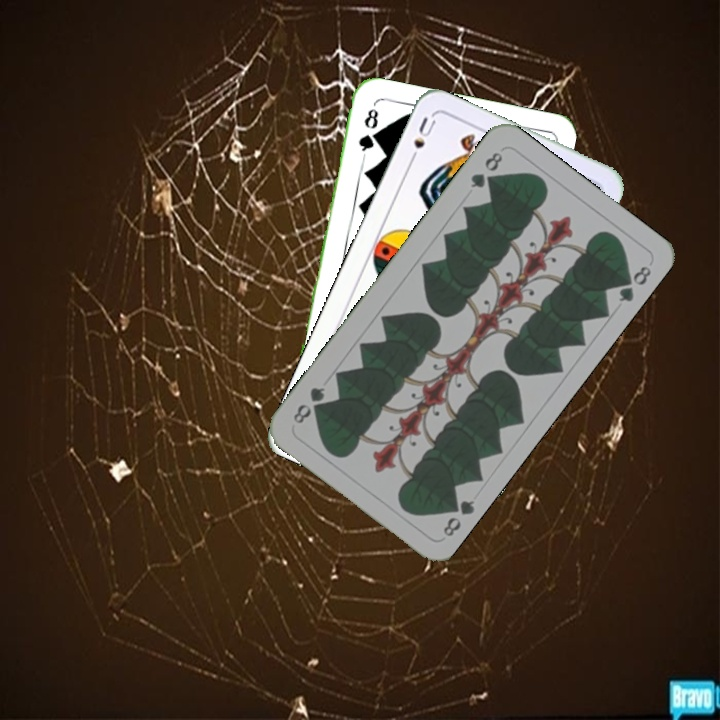G8: (439, 493, 477, 540), (466, 147, 506, 191), (354, 104, 381, 160)
SU: (405, 112, 439, 168)
